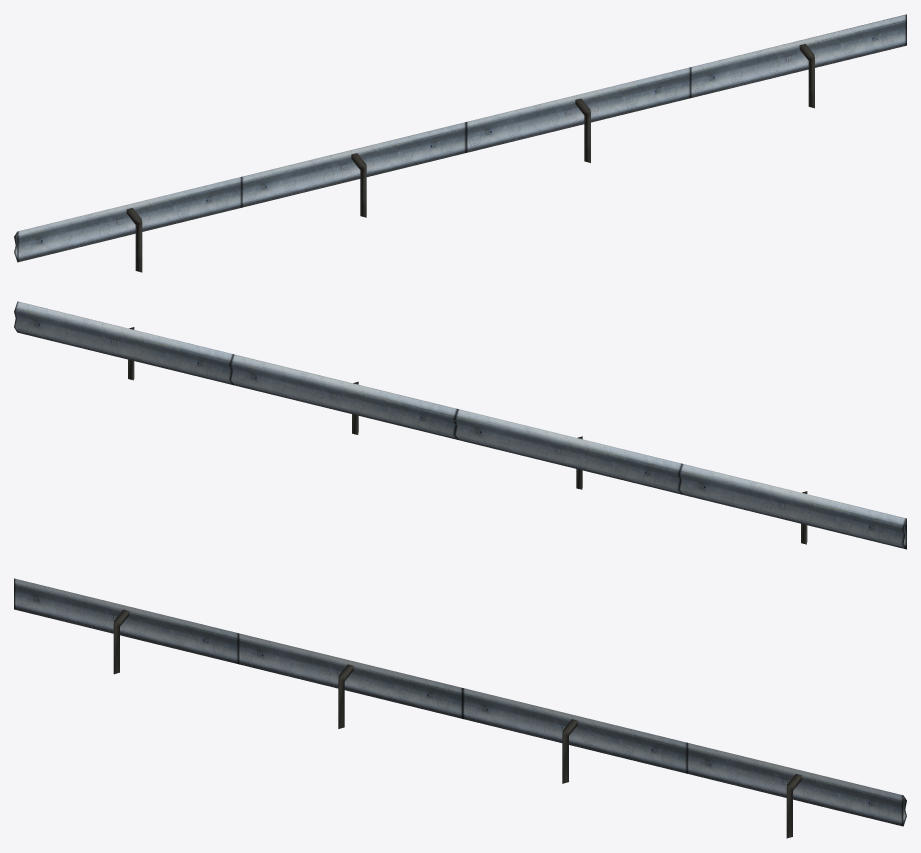
Rendered from railing.FBX.
3 renders of one model, top to bottom at view 1: azimuth 30°, elevation 25°; view 2: azimuth 150°, elevation 25°; view 3: azimuth 330°, elevation 25°, orthographic.
Visible parts, largest first — view 1: Object265; view 2: Object265; view 3: Object265.
Boxes of the visible parts, left/top/right/bottom form: Object265: left=14, top=14, right=906, bottom=272; Object265: left=14, top=301, right=906, bottom=549; Object265: left=14, top=578, right=906, bottom=838.
Size of the model in its own units: 11.94 by 0.7627 by 0.3728.
